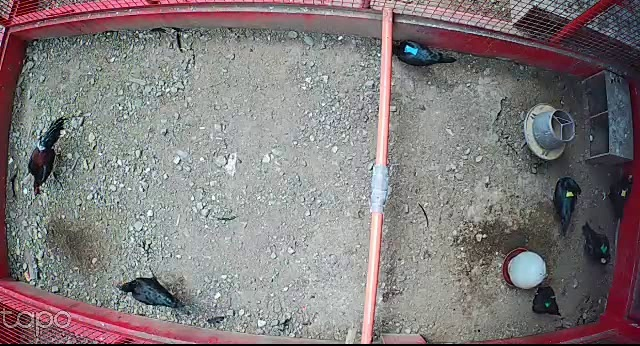Chicken: (112, 267, 192, 309), (602, 169, 636, 222), (552, 175, 581, 237), (391, 41, 459, 67), (581, 221, 613, 267), (530, 285, 565, 316)
Drinker: (501, 247, 547, 289)
Feeder: (524, 102, 573, 163)
Rooster: (27, 116, 76, 196)
Saddle_Color_Blue: (404, 43, 419, 57)
Saddle_Color_Yellow: (566, 190, 574, 197)
